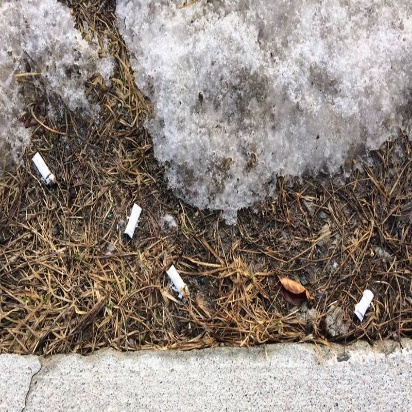cigarette: (27, 147, 60, 200), (117, 198, 148, 247), (162, 262, 194, 301), (274, 271, 310, 303), (352, 286, 375, 326)
